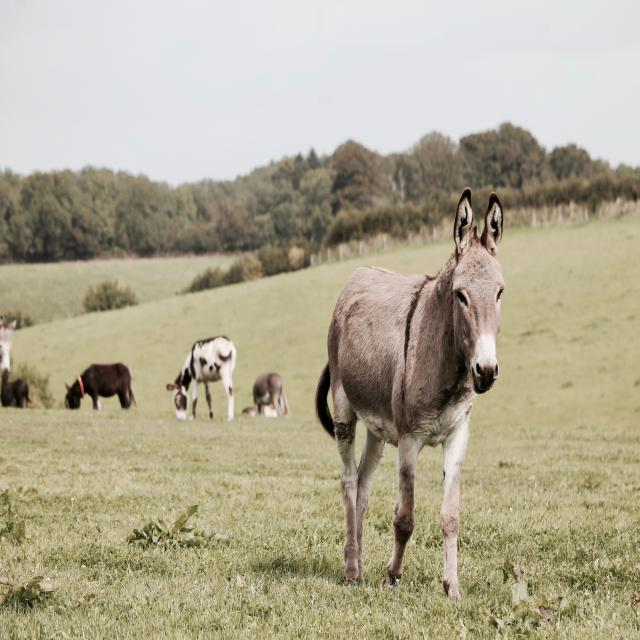donkey: (304, 191, 554, 497), (156, 310, 248, 436), (45, 337, 150, 434), (235, 351, 303, 438)
